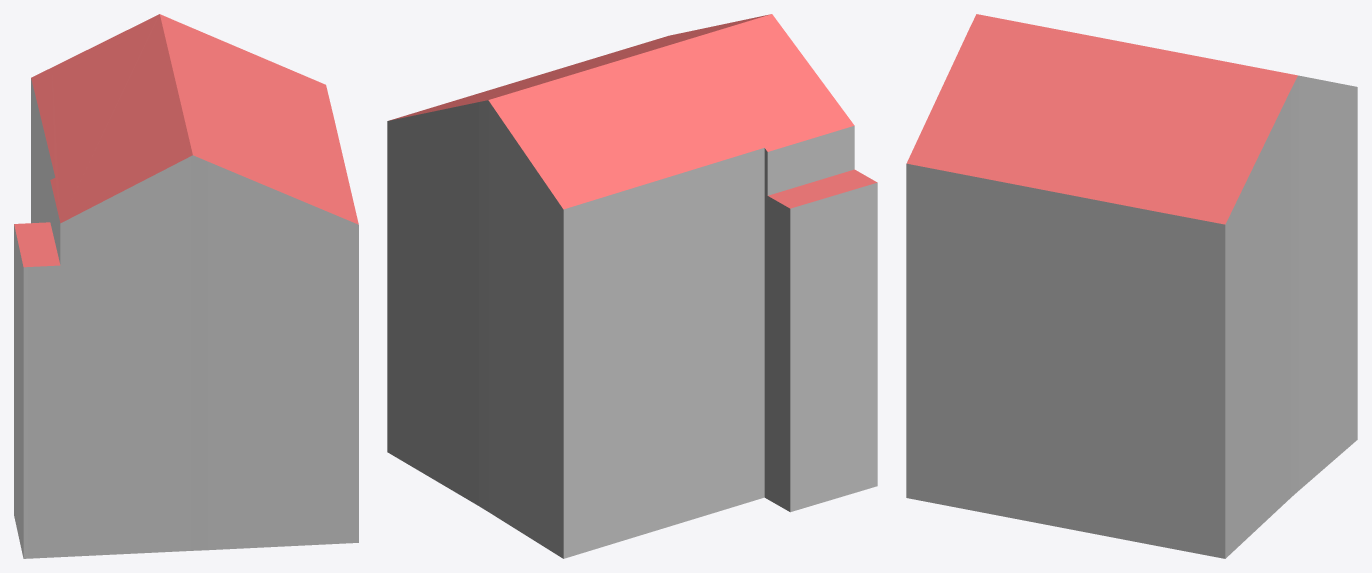
The model's file is DEBY_LOD2_4907160.gltf.
3 views of the same model, side by side, from view 1: azimuth 30°, elevation 25°; view 2: azimuth 150°, elevation 25°; view 3: azimuth 270°, elevation 25° (orthographic). The views are drawn at different scales.
Visible parts, largest first — view 1: Z_UP; view 2: Z_UP; view 3: Z_UP.
Part boxes in pixels (box(x1,y1,x2,y2)): Z_UP: box(14, 14, 358, 558); Z_UP: box(387, 14, 877, 558); Z_UP: box(906, 14, 1357, 558).
Size of the model in its own units: 18.88 by 18.45 by 18.13.
